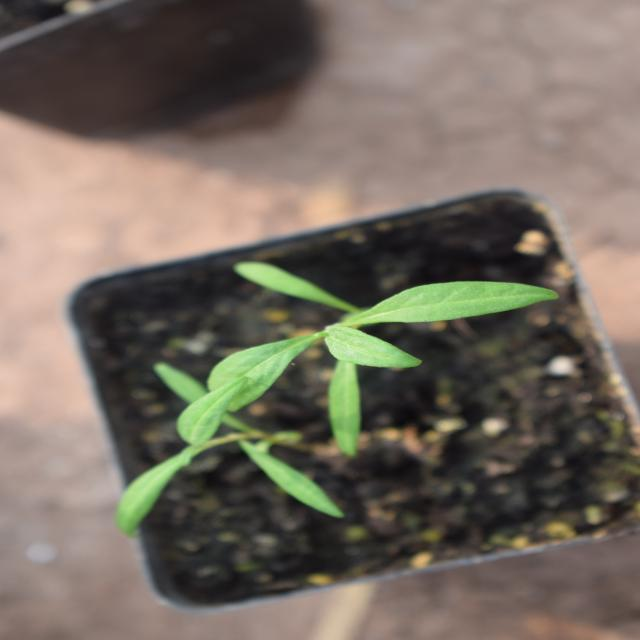white_smart_weed: (214, 180, 410, 547)
